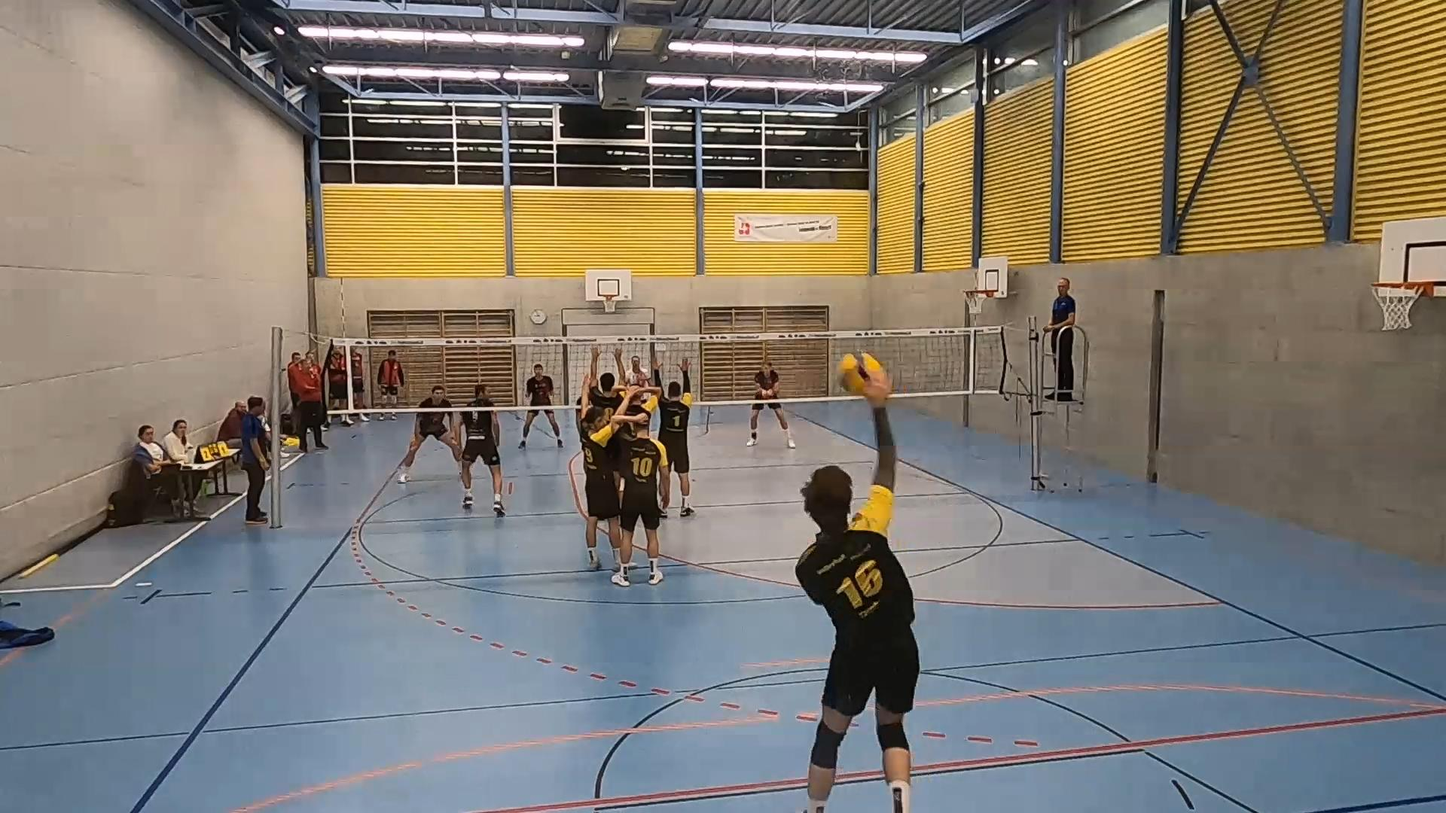battuta: (797, 350, 922, 813)
